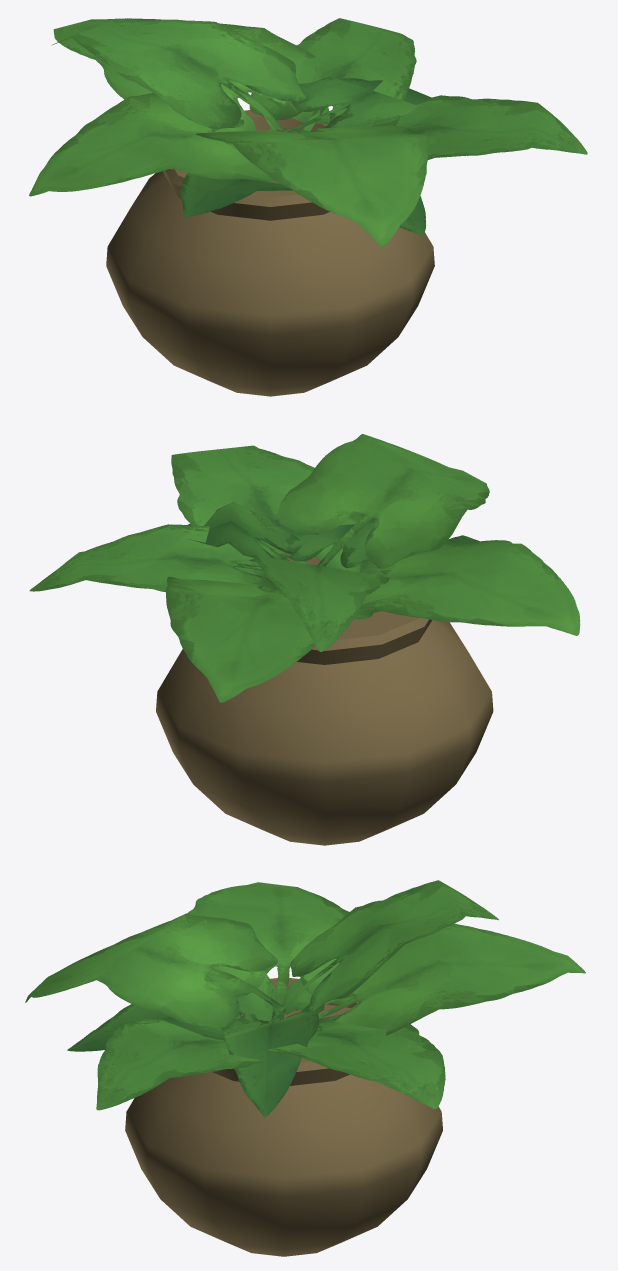
The model's file is SM_Plante_01_low.fbx.
3 renders of one model, top to bottom at view 1: azimuth 30°, elevation 25°; view 2: azimuth 150°, elevation 25°; view 3: azimuth 270°, elevation 25°, orthographic. The views are drawn at different scales.
Visible parts, largest first — view 1: SM_Plante_01; view 2: SM_Plante_01; view 3: SM_Plante_01.
Part boxes in pixels (x1,y1,x2,y2): SM_Plante_01: (29, 18, 587, 396); SM_Plante_01: (29, 434, 580, 845); SM_Plante_01: (25, 880, 585, 1256).
Size of the model in its own units: 247 by 146 by 265.
